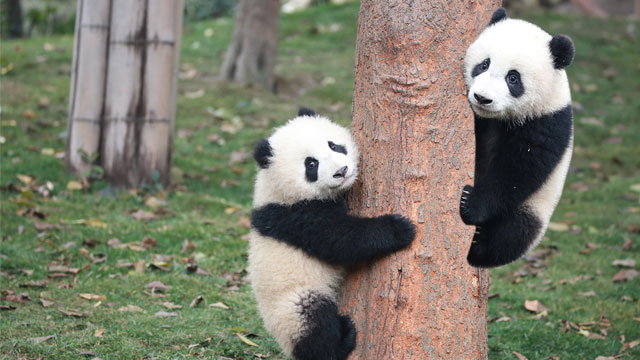panda: (224, 99, 423, 360), (434, 1, 584, 269)
